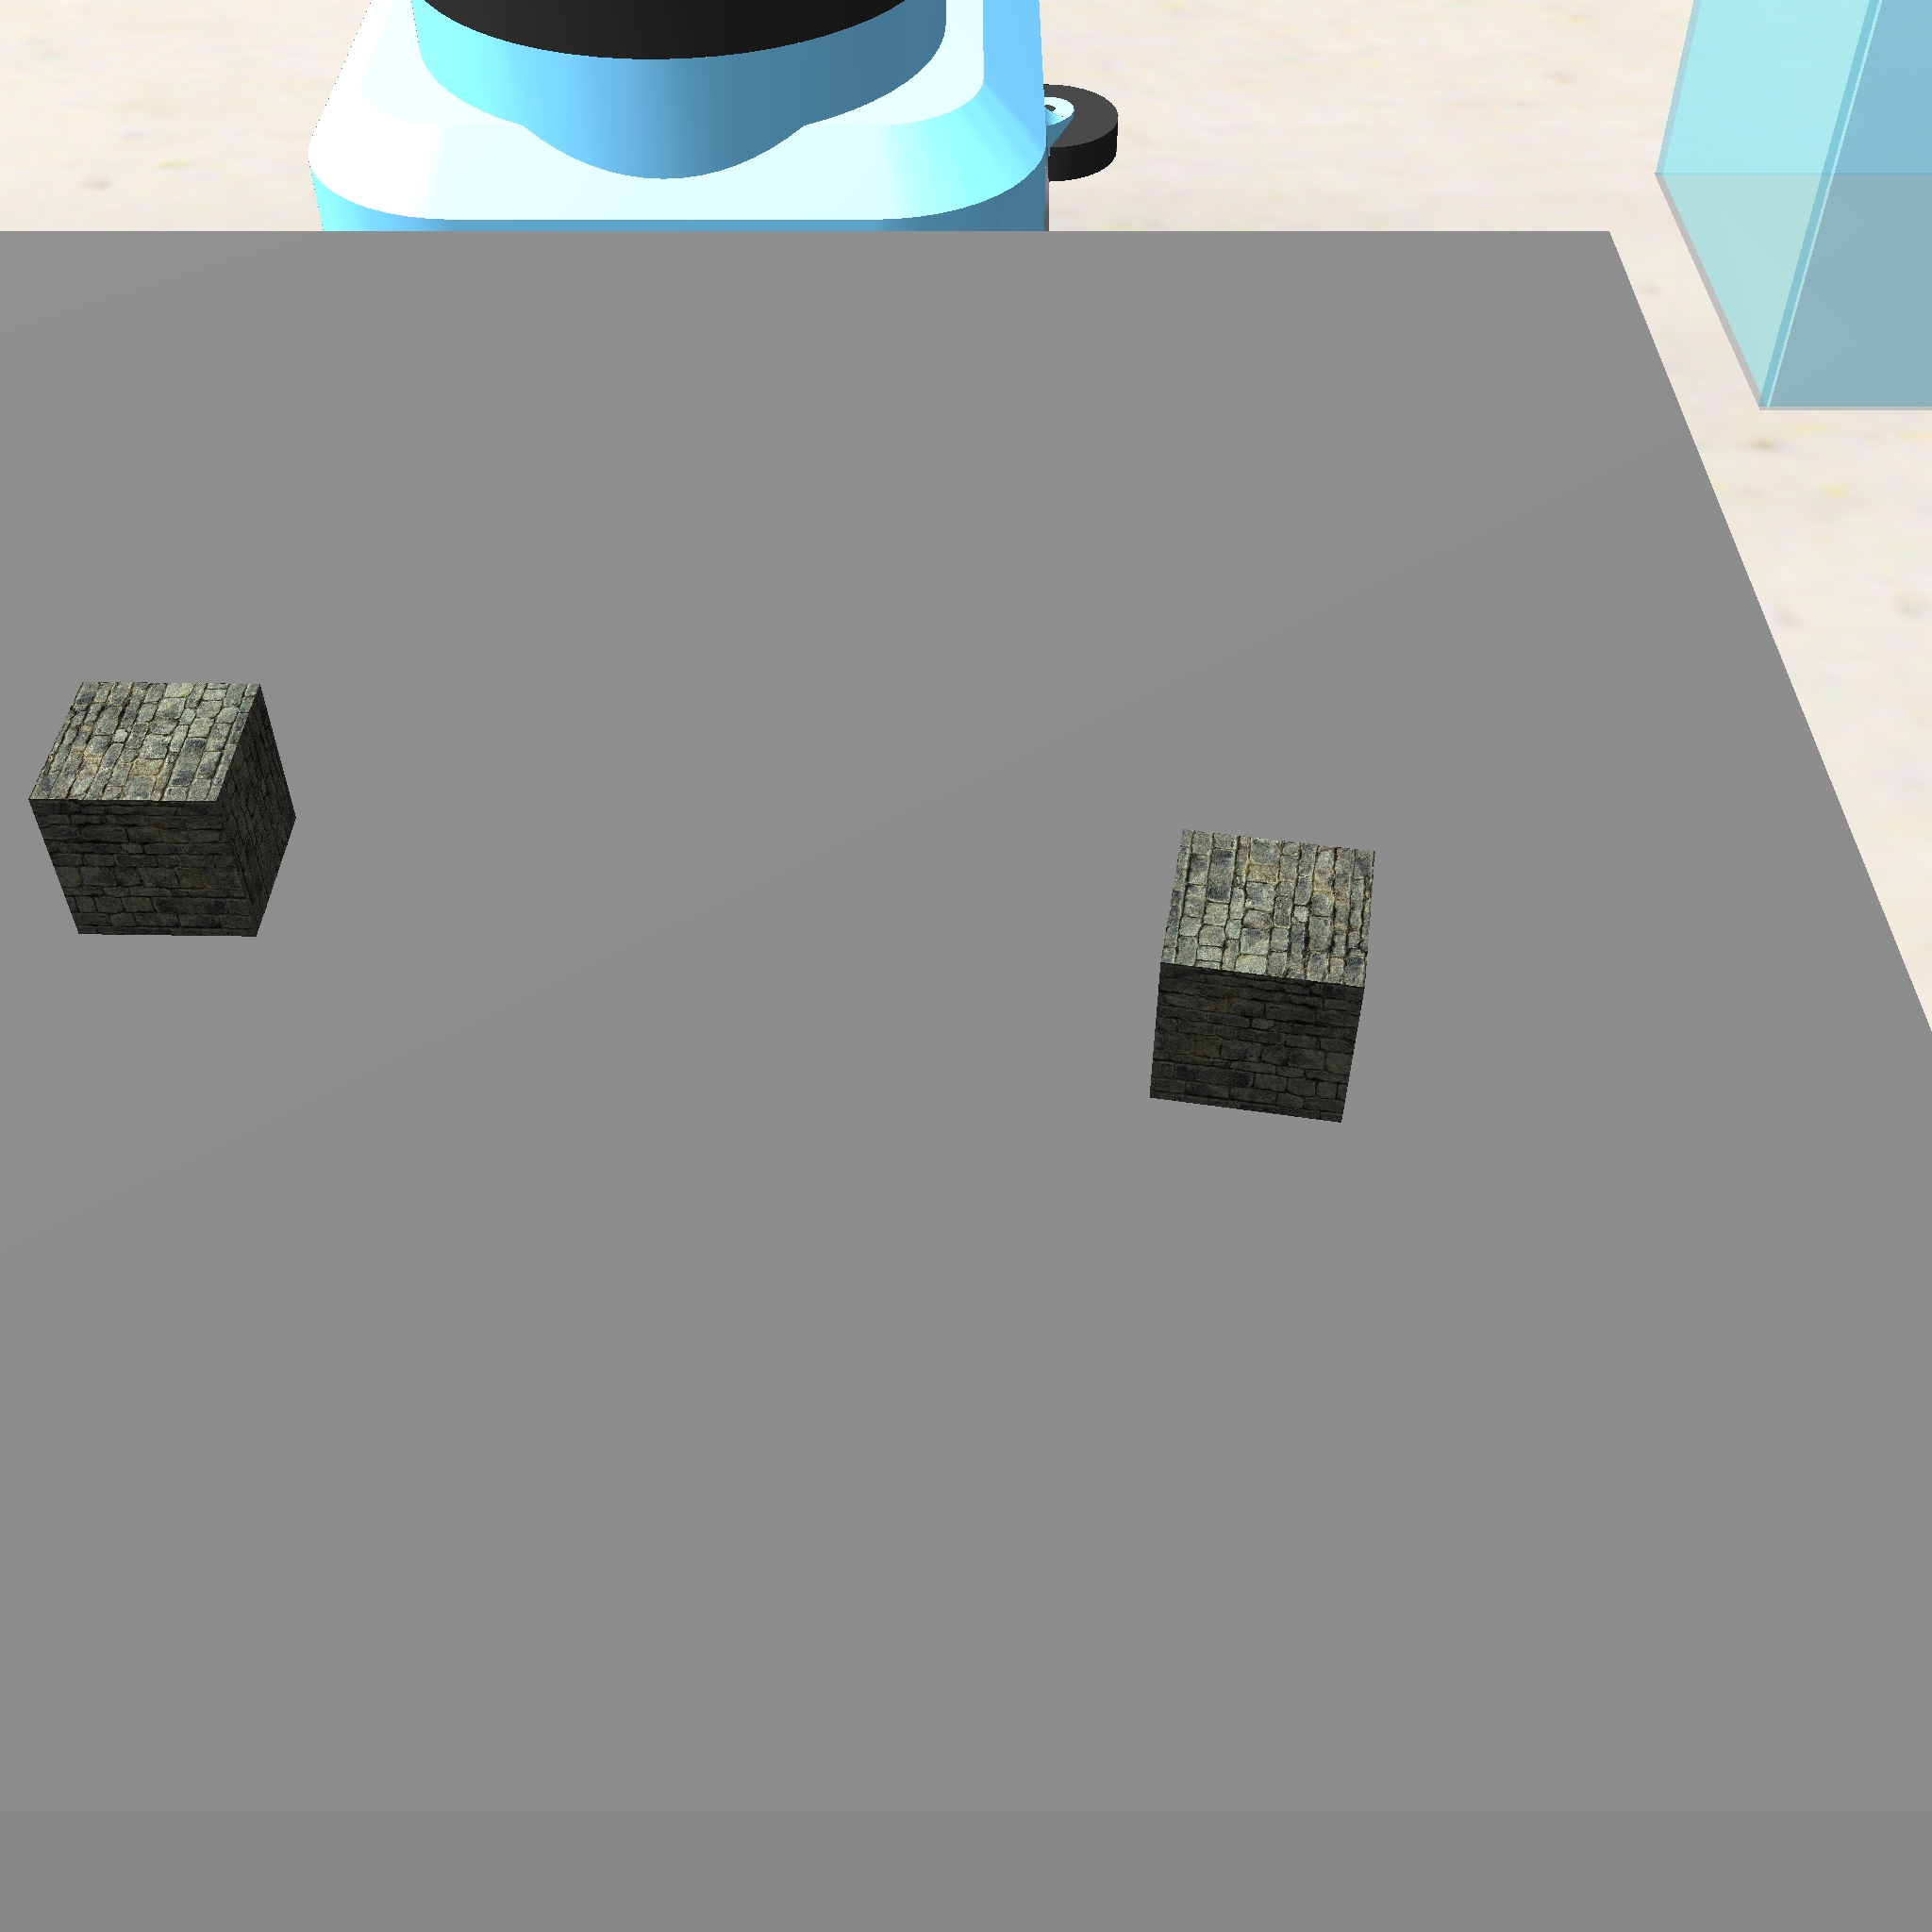cube: (19, 671, 303, 948), (1141, 816, 1382, 1139)
